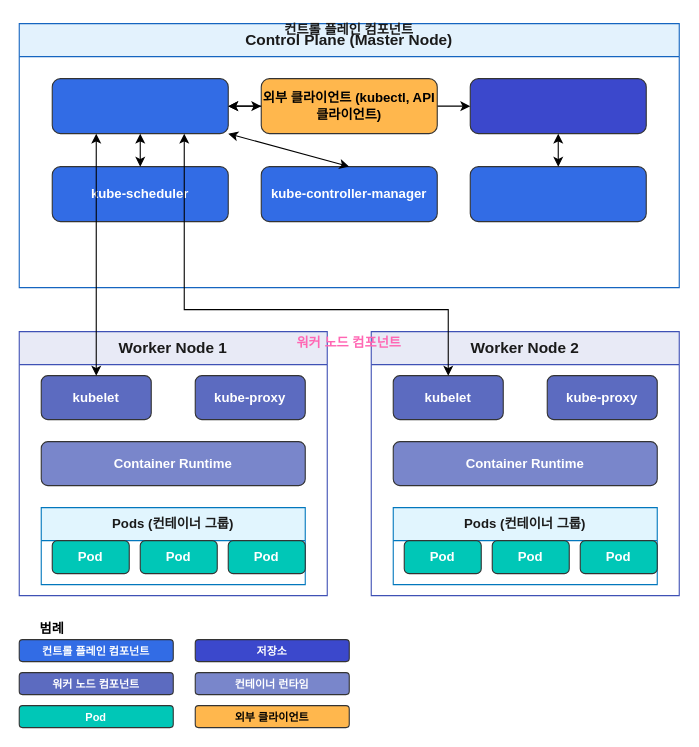
This 699x747 diagram has some shape labels left out. Here are the shapes that lost their labels. From the top down, the box of each, then its label:
(51, 78, 228, 134): kube-apiserver
(469, 78, 646, 134): etcd (저장소)
(469, 166, 646, 222): cloud-controller-manager
